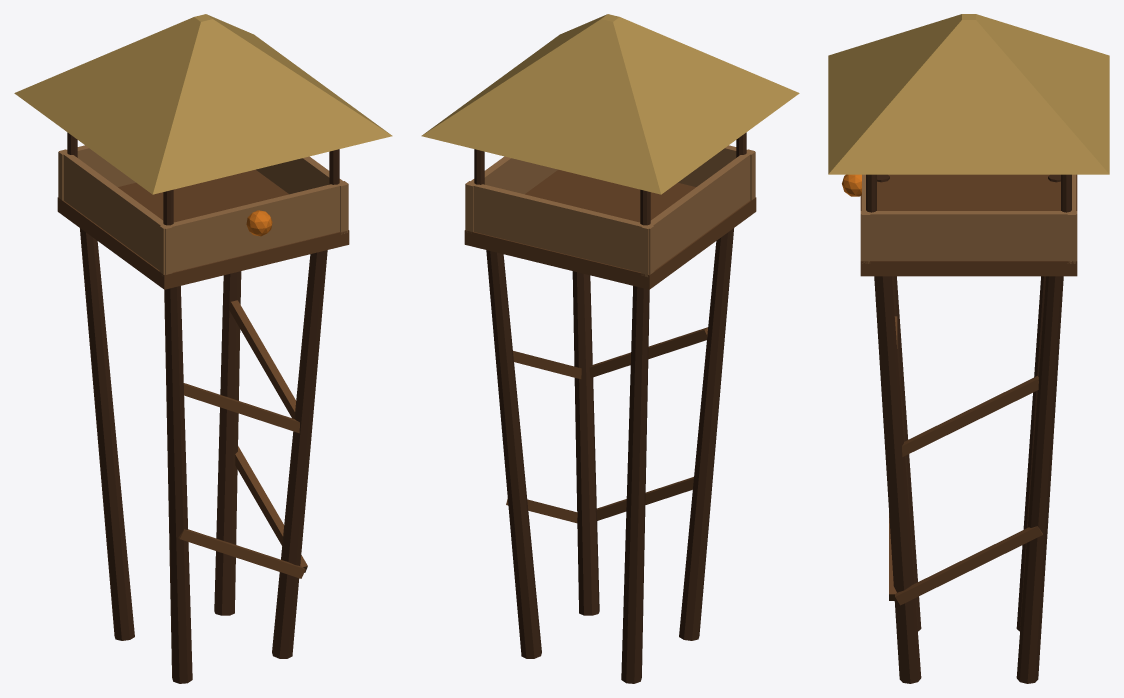
The model's file is SM_GZ_watchtower_green.fbx.
3 renders of one model, left to right at view 1: azimuth 30°, elevation 25°; view 2: azimuth 150°, elevation 25°; view 3: azimuth 270°, elevation 25°, orthographic.
Parts seen in each view (by area): view 1: SM_GZ_watchtower_green; view 2: SM_GZ_watchtower_green; view 3: SM_GZ_watchtower_green.
Boxes of the visible parts, x1,y1,x2,y2 form: SM_GZ_watchtower_green: (14,14,392,683); SM_GZ_watchtower_green: (421,14,799,683); SM_GZ_watchtower_green: (828,14,1109,683).
Size of the model in its own units: 520 by 1300 by 520.
